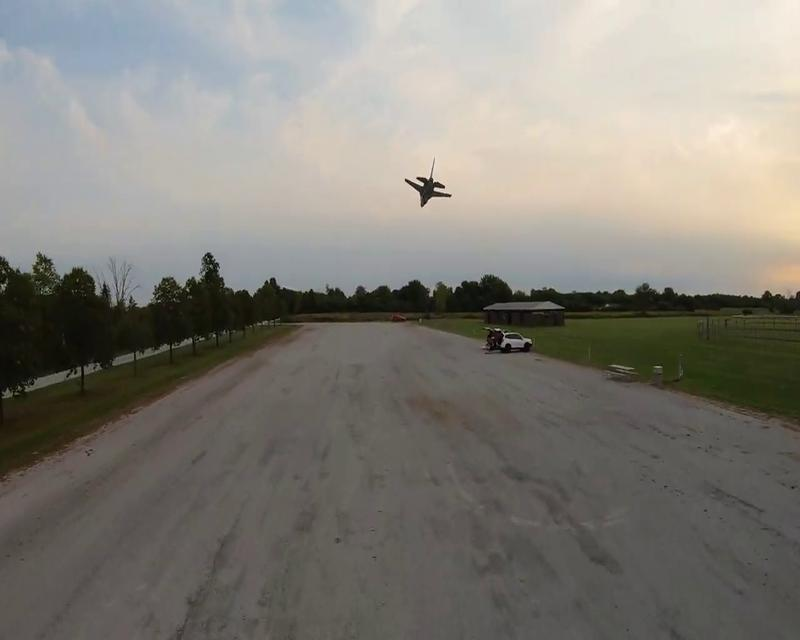UAV: (403, 156, 452, 208)
